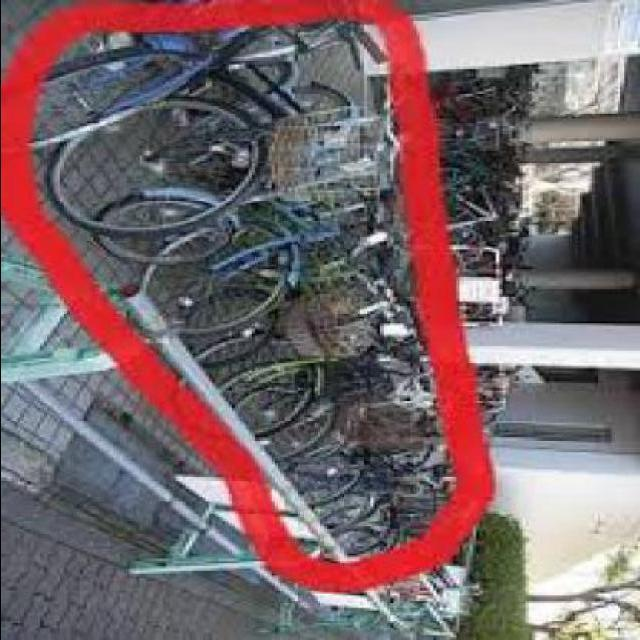bicycle: (77, 17, 437, 237)
